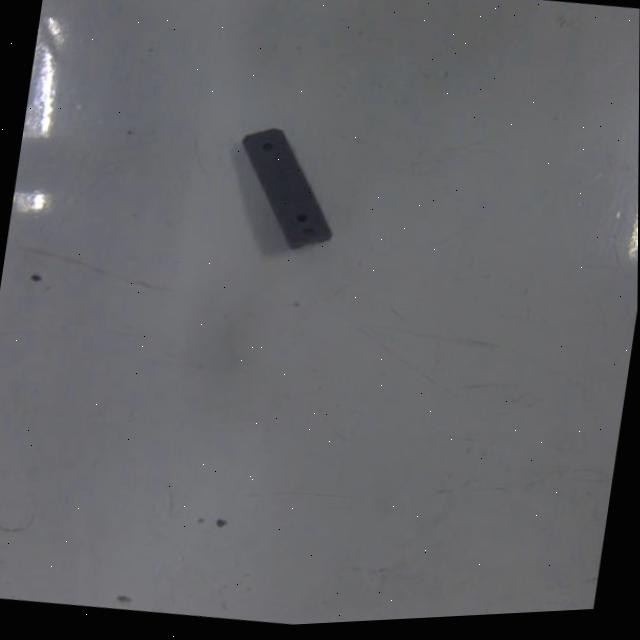grey: (223, 120, 352, 262)
head: (253, 143, 278, 159)
